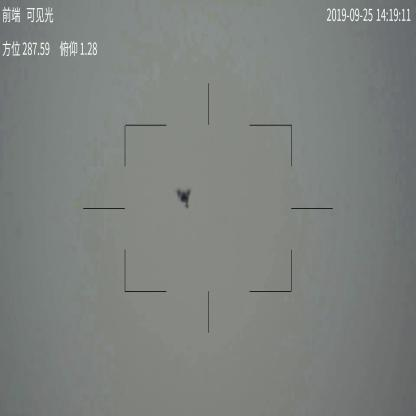uav: (176, 186, 192, 208)
